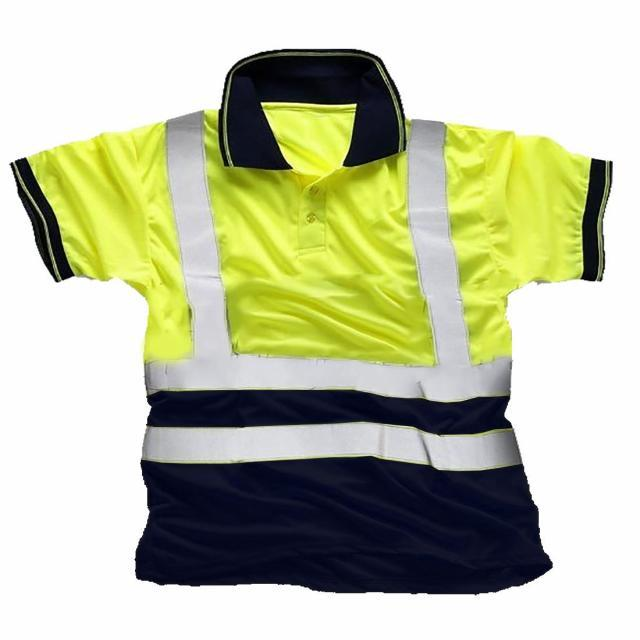construction-vest: (15, 53, 609, 593)
